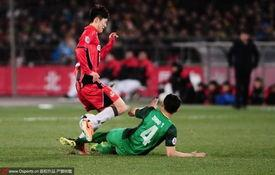down: (57, 91, 206, 159)
up: (66, 3, 126, 141)
